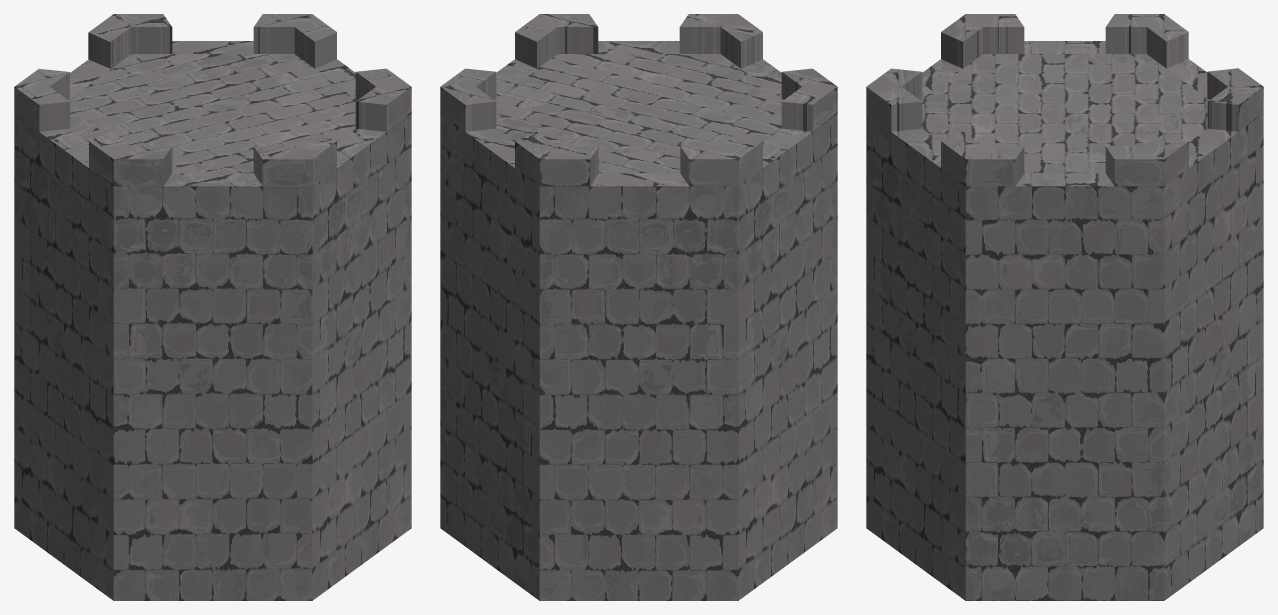
Rendered from Border.fbx.
3 views of the same model, side by side, from view 1: azimuth 30°, elevation 25°; view 2: azimuth 150°, elevation 25°; view 3: azimuth 270°, elevation 25° (orthographic).
Parts seen in each view (by area): view 1: Tile; view 2: Tile; view 3: Tile.
Boxes of the visible parts, x1=… form: Tile: x1=14, y1=14, x2=411, y2=600; Tile: x1=440, y1=14, x2=837, y2=600; Tile: x1=866, y1=14, x2=1263, y2=600.
Bounding box in the file's own units: 2 × 1.73 × 2.45.
